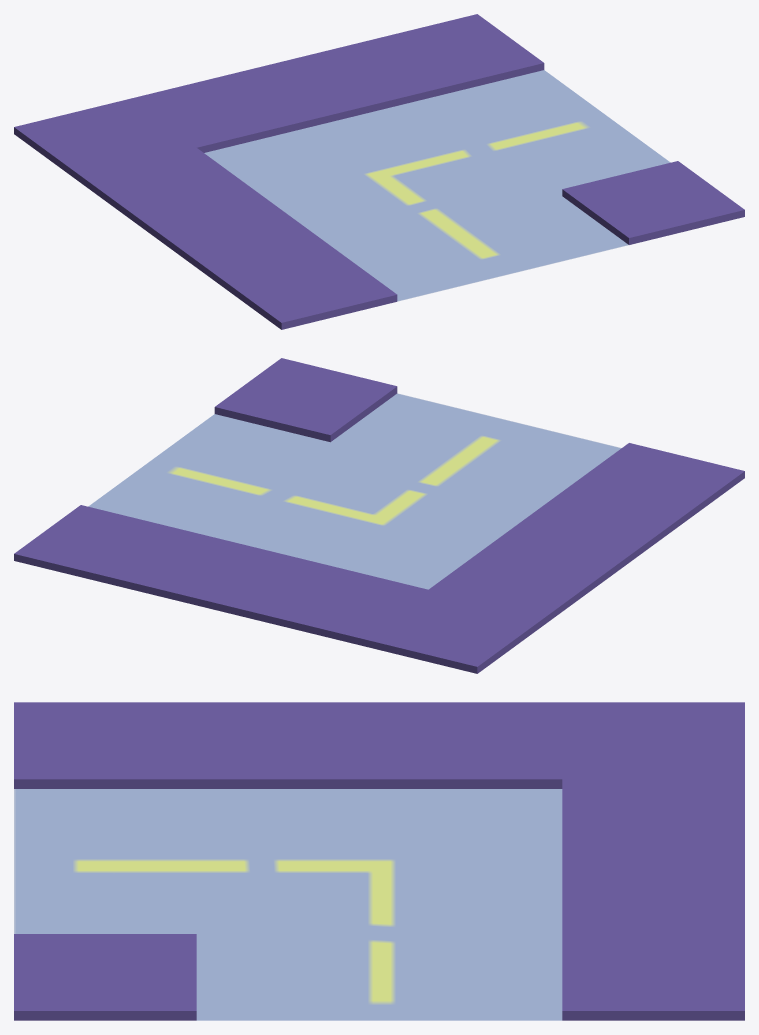
Rendered from road4.fbx.
3 views of the same model, one above another, from view 1: azimuth 30°, elevation 25°; view 2: azimuth 150°, elevation 25°; view 3: azimuth 270°, elevation 25° (orthographic). The views are drawn at different scales.
Visible parts, largest first — view 1: Plane.003; view 2: Plane.003; view 3: Plane.003.
Boxes of the visible parts, x1=… form: Plane.003: x1=14, y1=14, x2=744, y2=329; Plane.003: x1=14, y1=358, x2=744, y2=673; Plane.003: x1=14, y1=702, x2=744, y2=1020.
Size of the model in its own units: 4 by 0.0582 by 4.
Materials: 1 (1 with a texture image).
